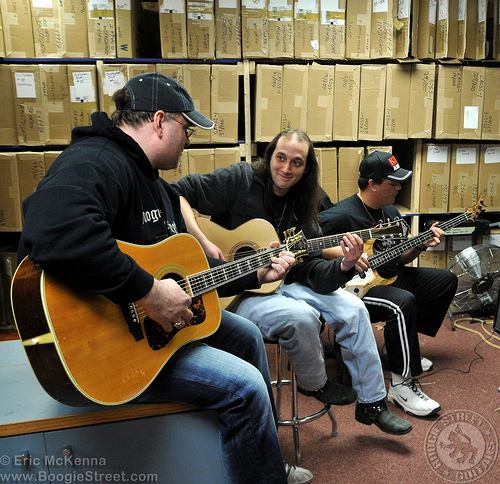guitar: (10, 225, 314, 407), (184, 204, 410, 291)
